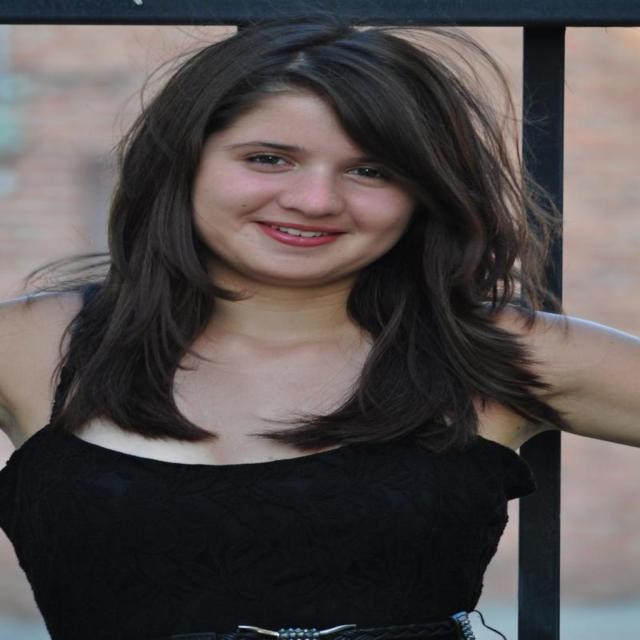Face: (189, 90, 427, 285)
